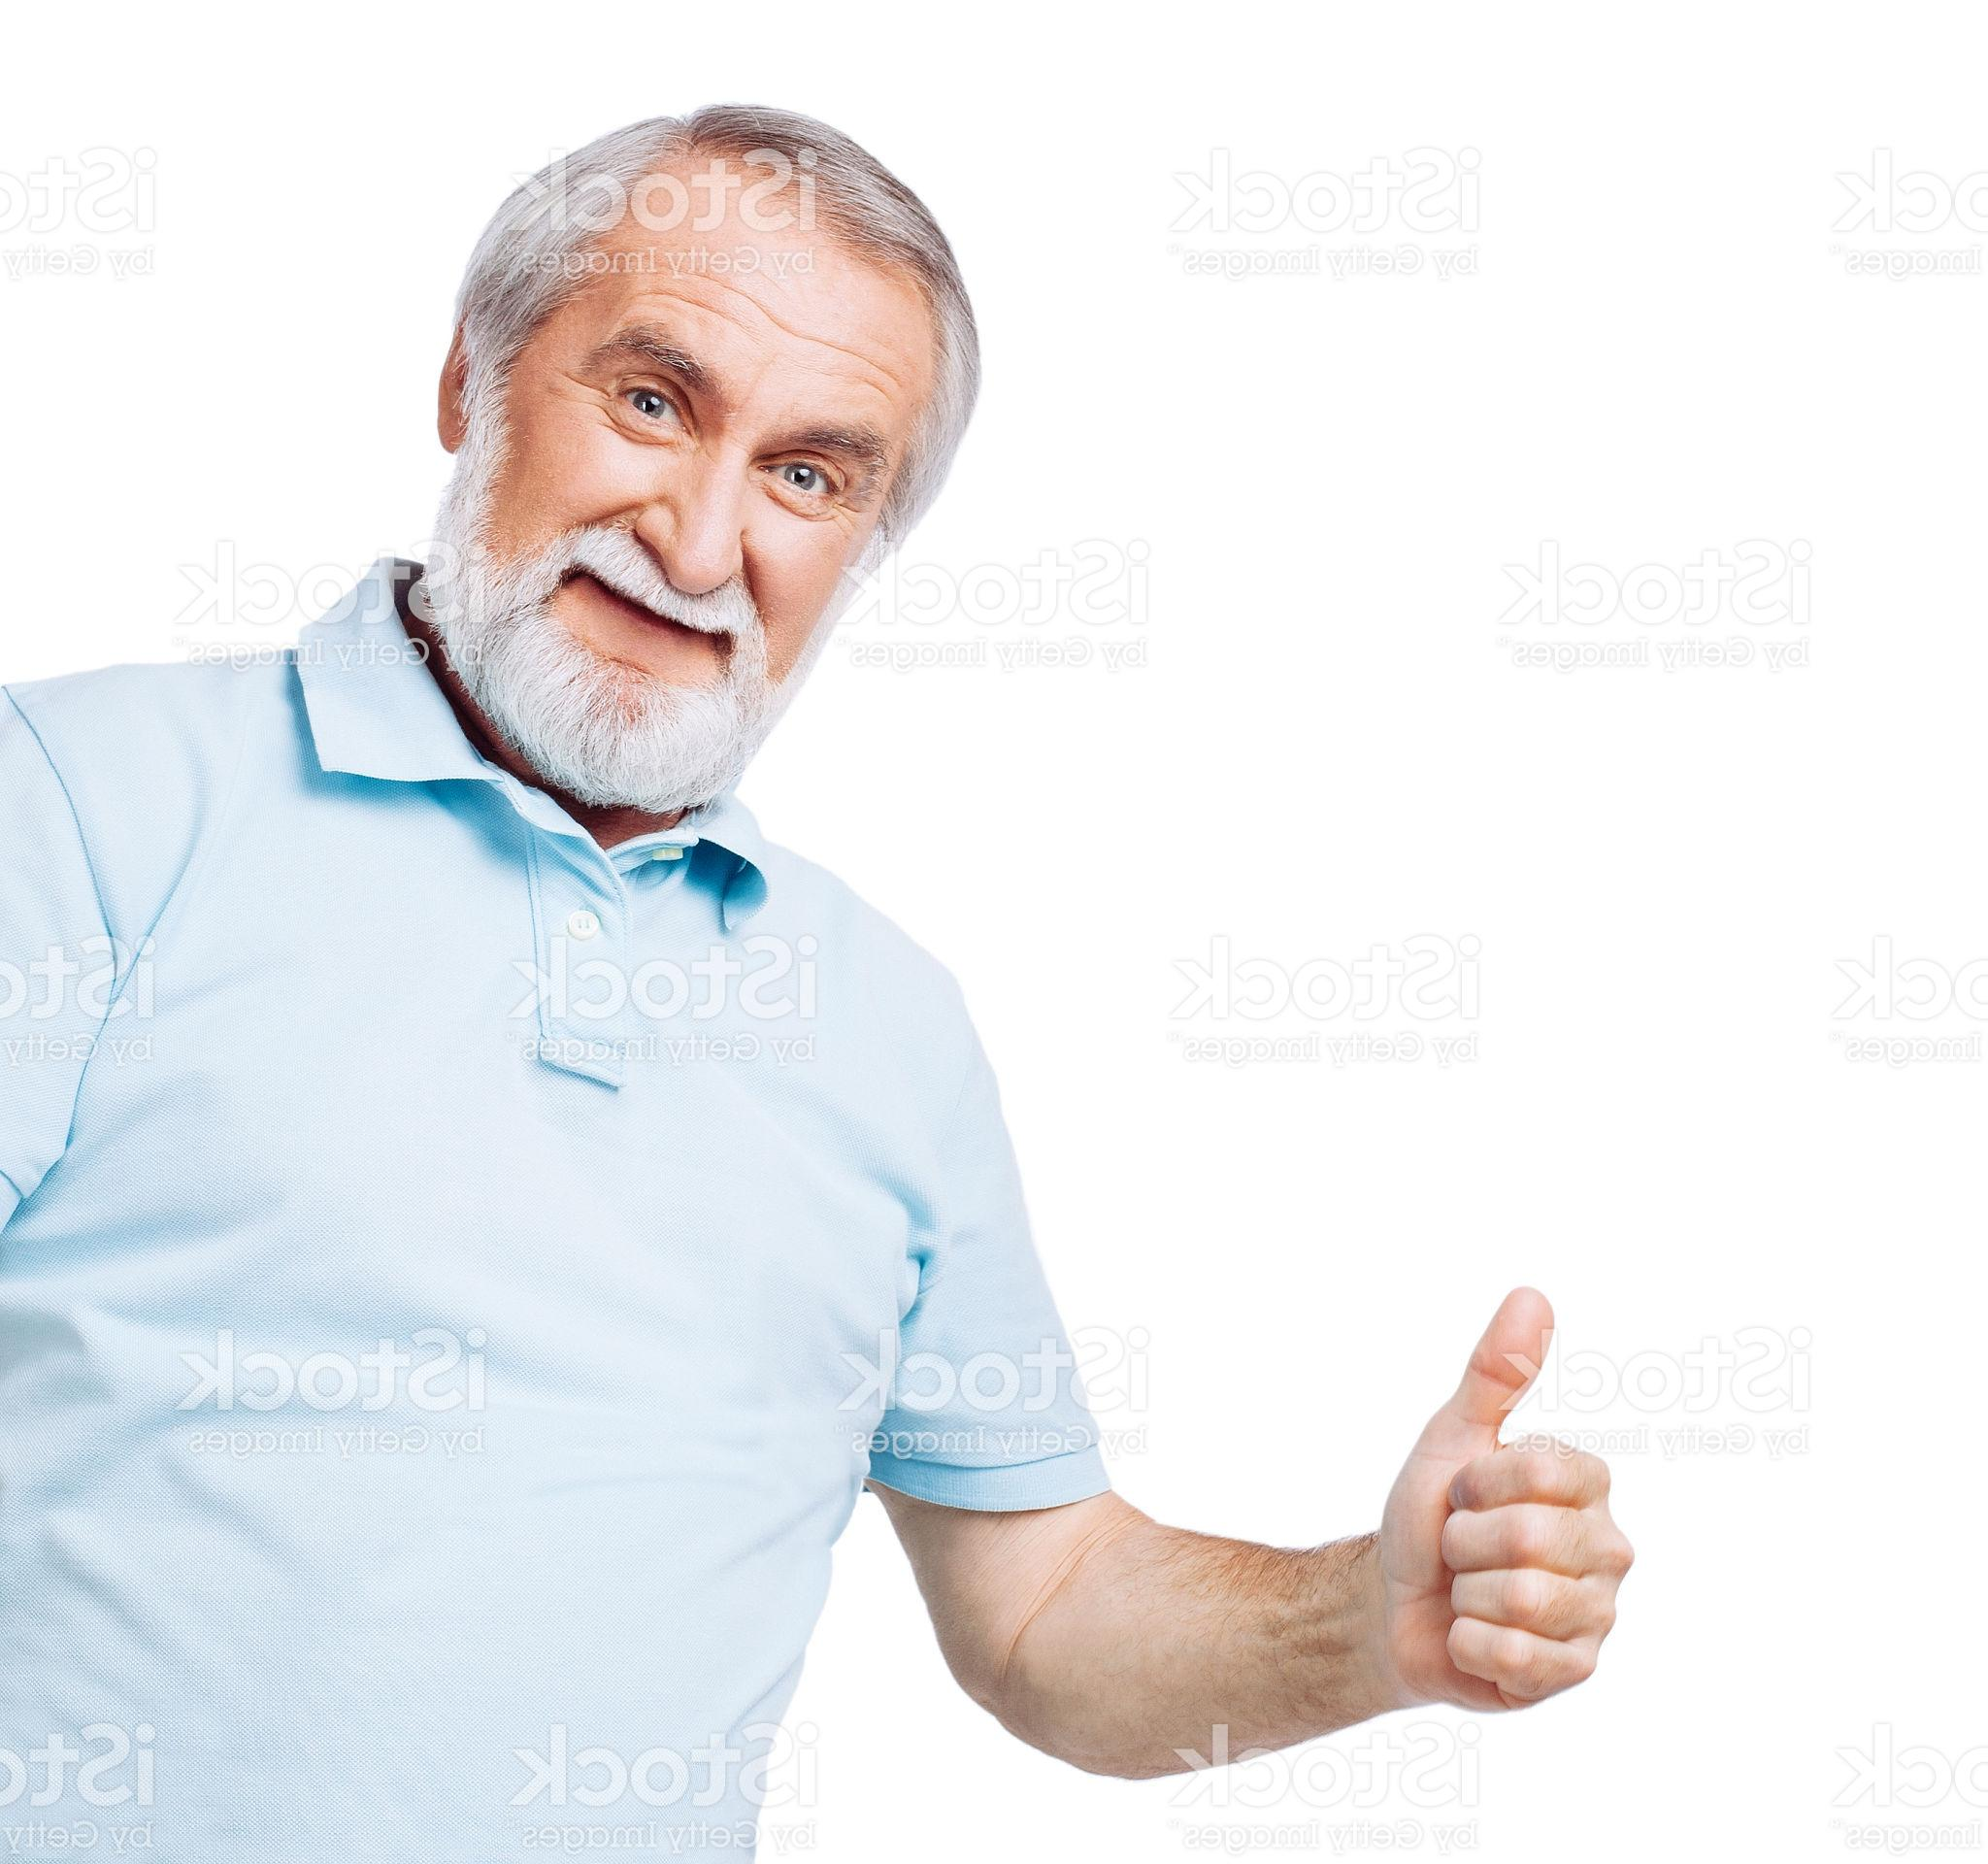thumbsup: (1385, 1284, 1638, 1717)
